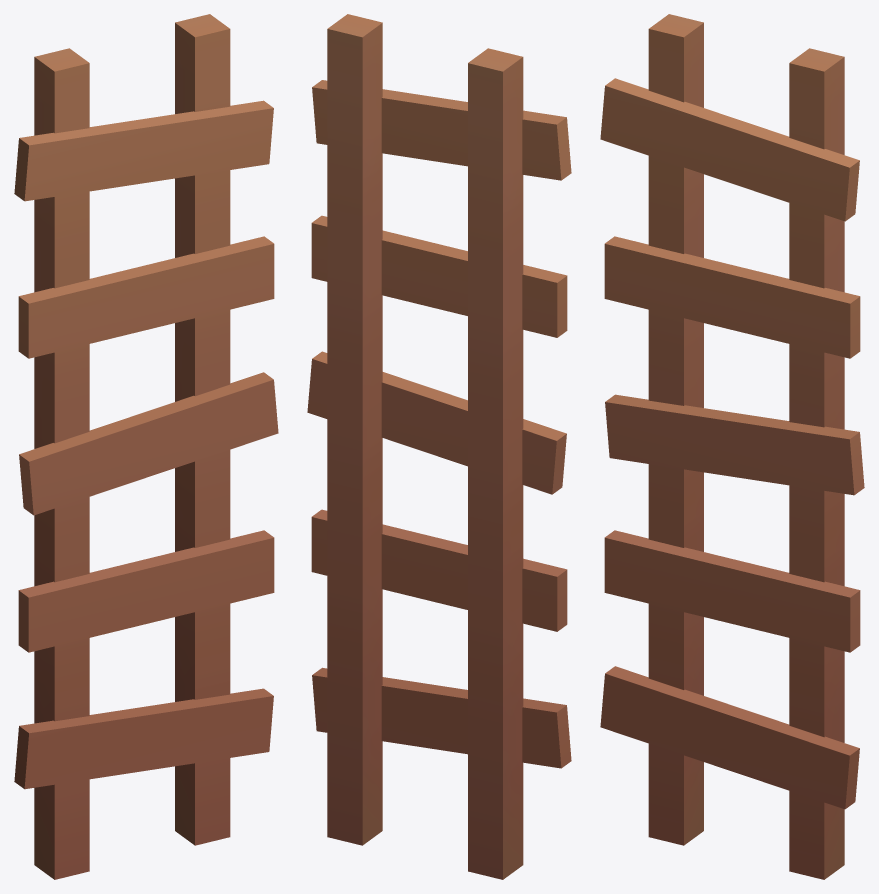
Rendered from ladder.glb.
The picture shows the model from 3 angles, left to right: view 1: azimuth 30°, elevation 25°; view 2: azimuth 150°, elevation 25°; view 3: azimuth 330°, elevation 25°; orthographic projection.
Parts seen in each view (by area): view 1: ladder; view 2: ladder; view 3: ladder.
Boxes of the visible parts, x1,y1,x2,y2 form: ladder: (14,14,278,879); ladder: (307,14,571,879); ladder: (600,14,864,879).
Size of the model in its own units: 0.2532 by 0.77 by 0.0507.
Materials: 1 (1 with a texture image).
